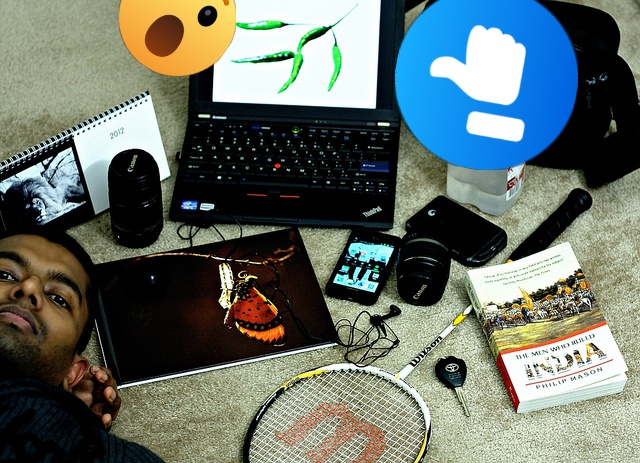like: (395, 0, 578, 170)
wow: (119, 0, 236, 76)
